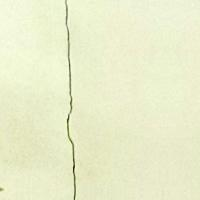crack: (47, 0, 99, 199)
